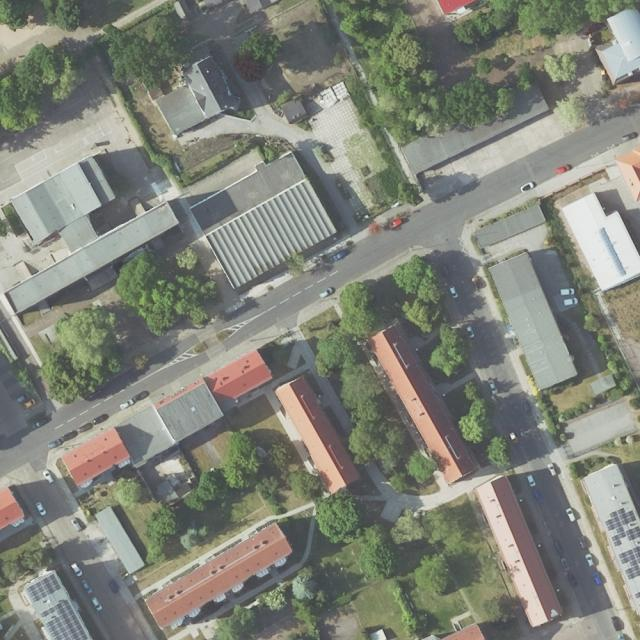PV: (39, 599, 91, 640), (603, 509, 639, 546), (26, 572, 61, 604), (618, 546, 640, 582)
